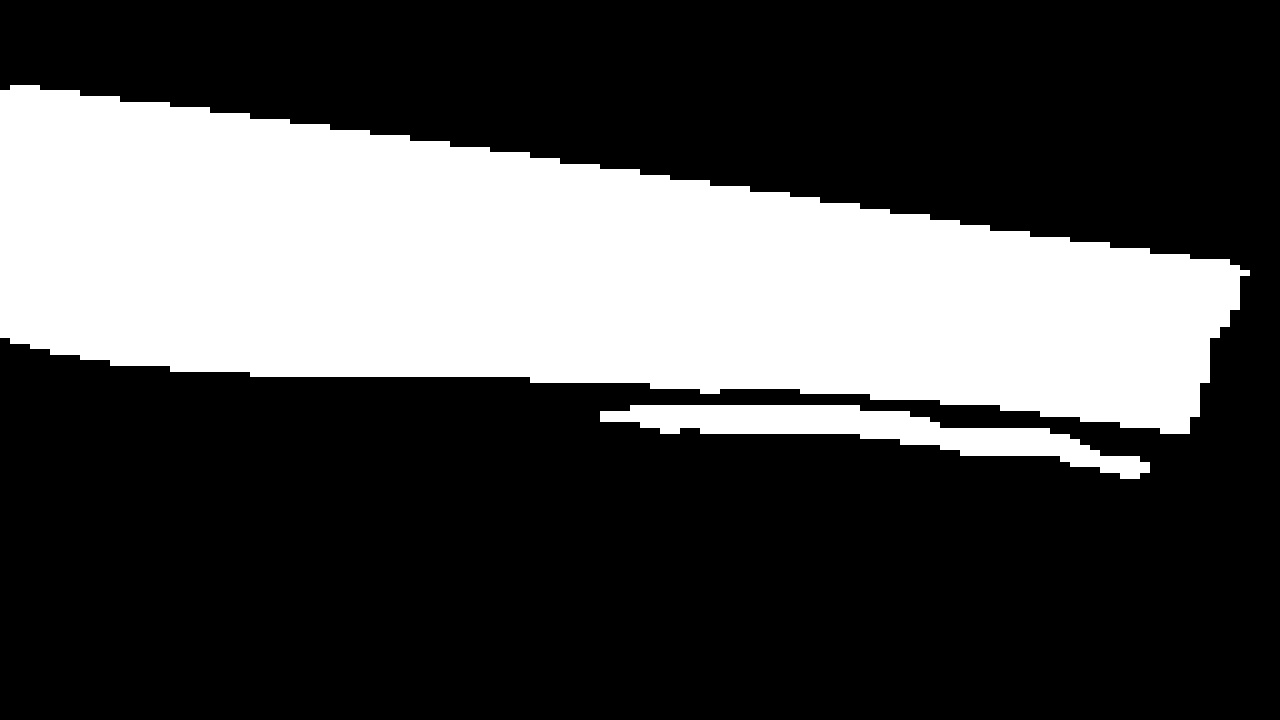Turbine: (11, 65, 1238, 459)
